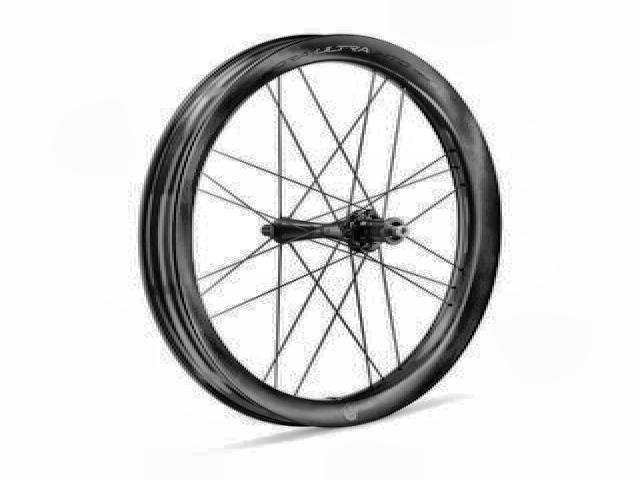wheel: (128, 28, 509, 437)
